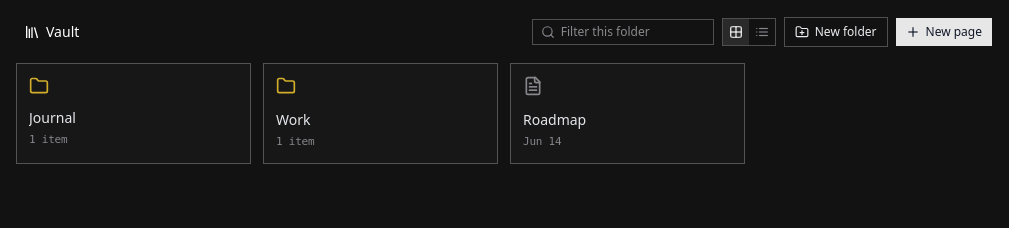
Test: VaultBrowserPane - layout and empty states › switches to a list with a Modified column and back to a grid
Click the button titled "List view": (762,32) [749, 19, 775, 45]
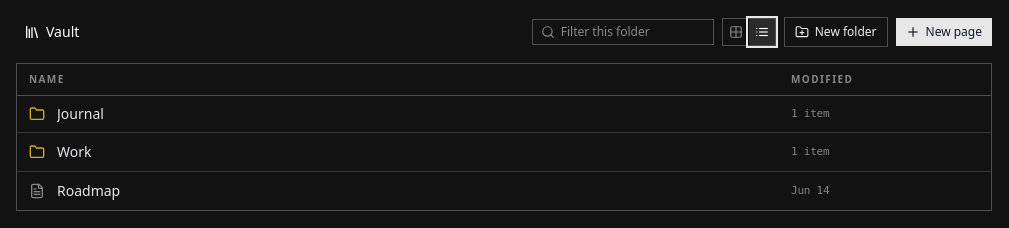
Expected: the text "Modified" is shown, [791, 72, 853, 86]
Expected: the text "Name" is shown, [29, 72, 65, 86]
Click the button titled "Grid view": (736,32) [723, 19, 749, 45]
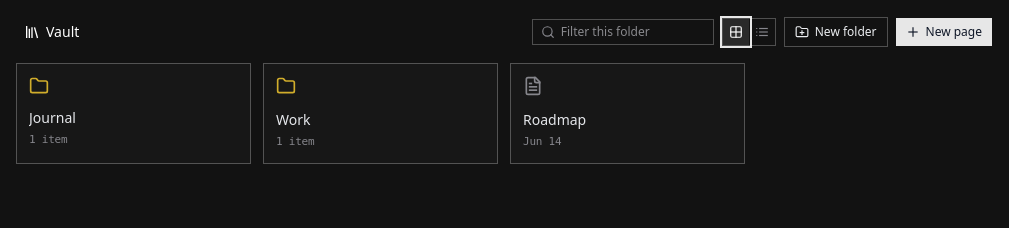
Expected: the text "Modified" is gone
